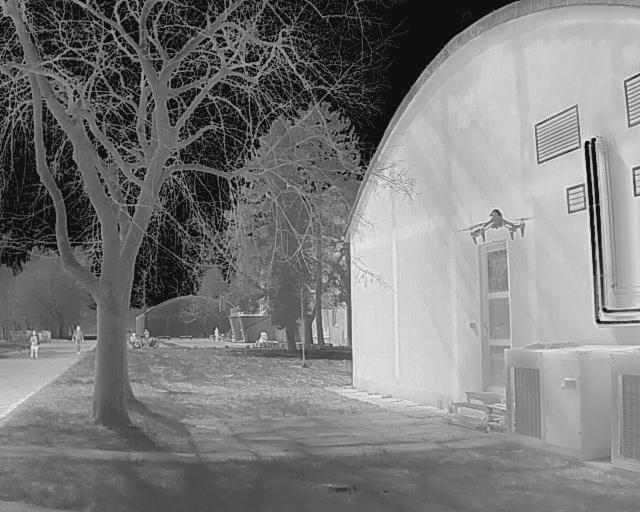drone: (454, 205, 538, 248)
